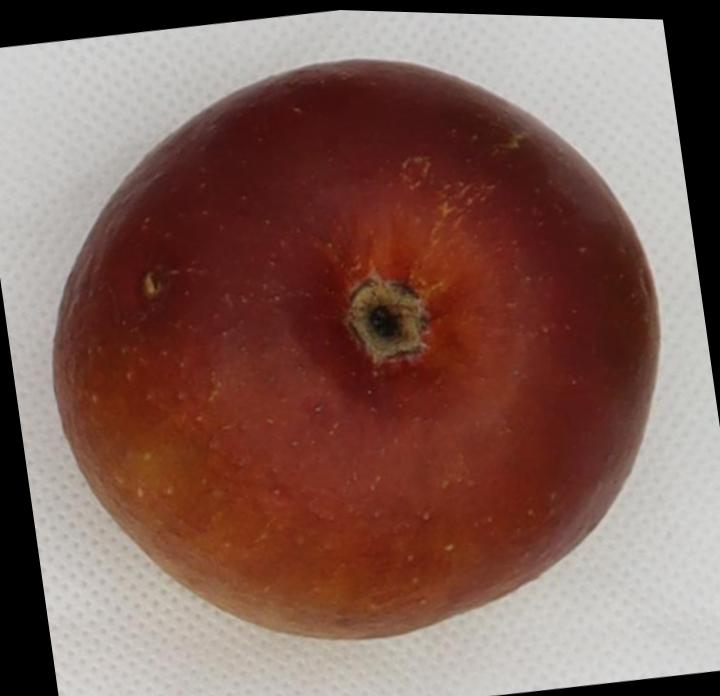apple: (52, 59, 656, 638)
surface_damage: (140, 271, 160, 299)
